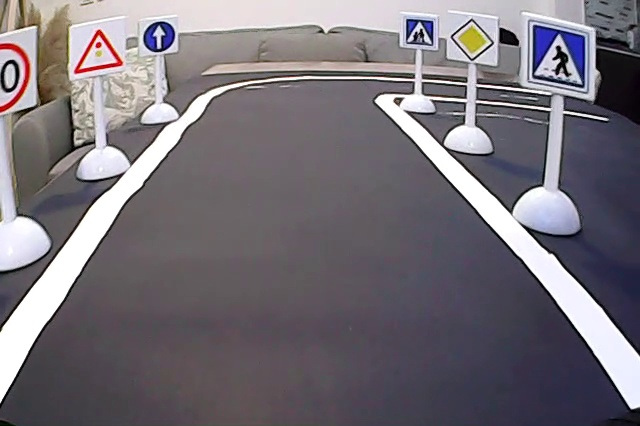pedestrian crossing: (523, 18, 592, 96)
red light: (73, 24, 128, 75)
school crossing: (403, 16, 436, 48)
